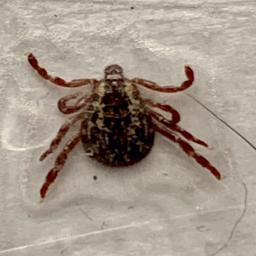Dermacentor variabilis: (24, 52, 222, 199)
